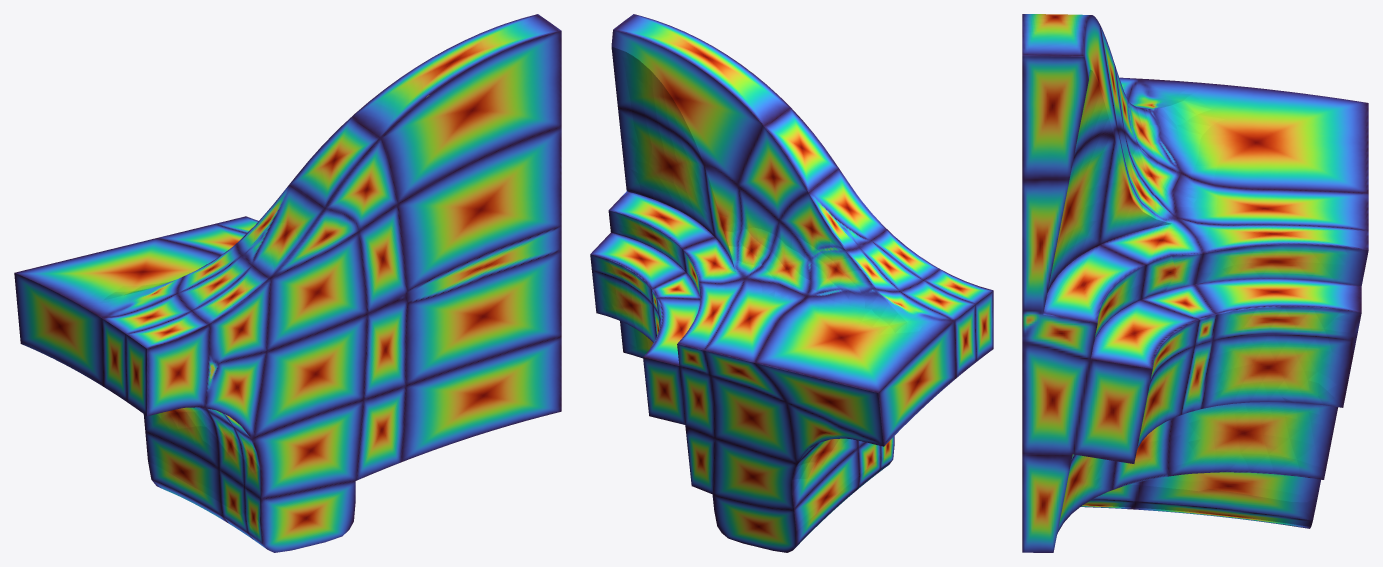
Rendered from gen0.glb.
3 renders of one model, left to right at view 1: azimuth 30°, elevation 25°; view 2: azimuth 150°, elevation 25°; view 3: azimuth 270°, elevation 25°, orthographic. The views are drawn at different scales.
Visible parts, largest first — view 1: Node; view 2: Node; view 3: Node.
Boxes of the visible parts, x1,y1,x2,y2 form: Node: (14, 14, 561, 552); Node: (590, 14, 993, 552); Node: (1022, 14, 1368, 552).
Bounding box in the file's own units: 4.83 × 5.24 × 2.68.
Materials: 1 (1 with a texture image).
